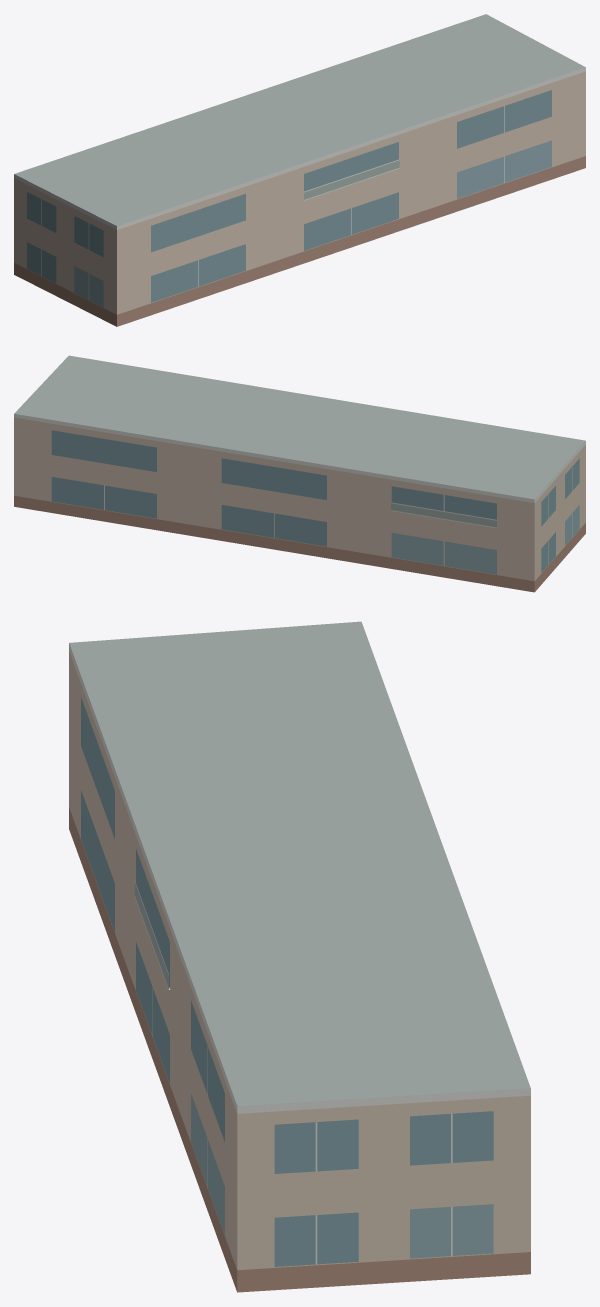
Rendered from survey-upis-32742081.glb.
The picture shows the model from 3 angles, top to bottom: view 1: azimuth 30°, elevation 25°; view 2: azimuth 150°, elevation 25°; view 3: azimuth 270°, elevation 25°; orthographic projection. The views are drawn at different scales.
Visible parts, largest first — view 1: survey-upis-32742081.tmp; view 2: survey-upis-32742081.tmp; view 3: survey-upis-32742081.tmp.
Part boxes in pixels (x1,y1,x2,y2): survey-upis-32742081.tmp: (14,14,585,326); survey-upis-32742081.tmp: (14,355,585,592); survey-upis-32742081.tmp: (69,621,530,1292).
Bounding box in the file's own units: 34.12 × 6.1 × 13.74.
